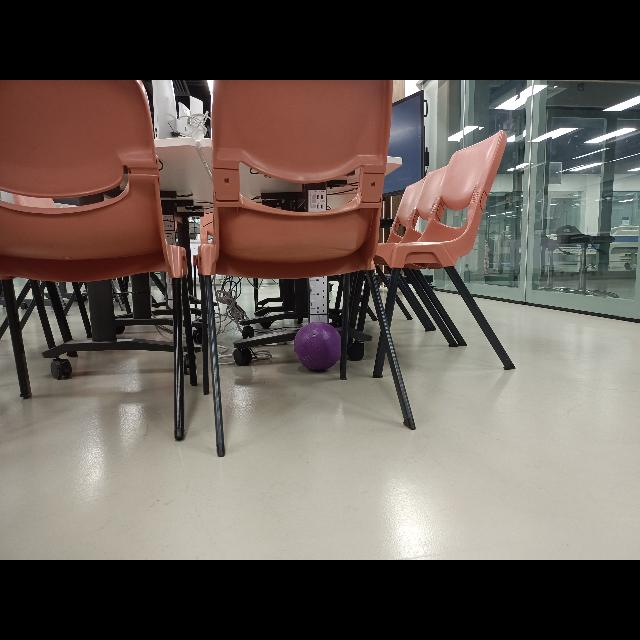P: (294, 321, 342, 371)
